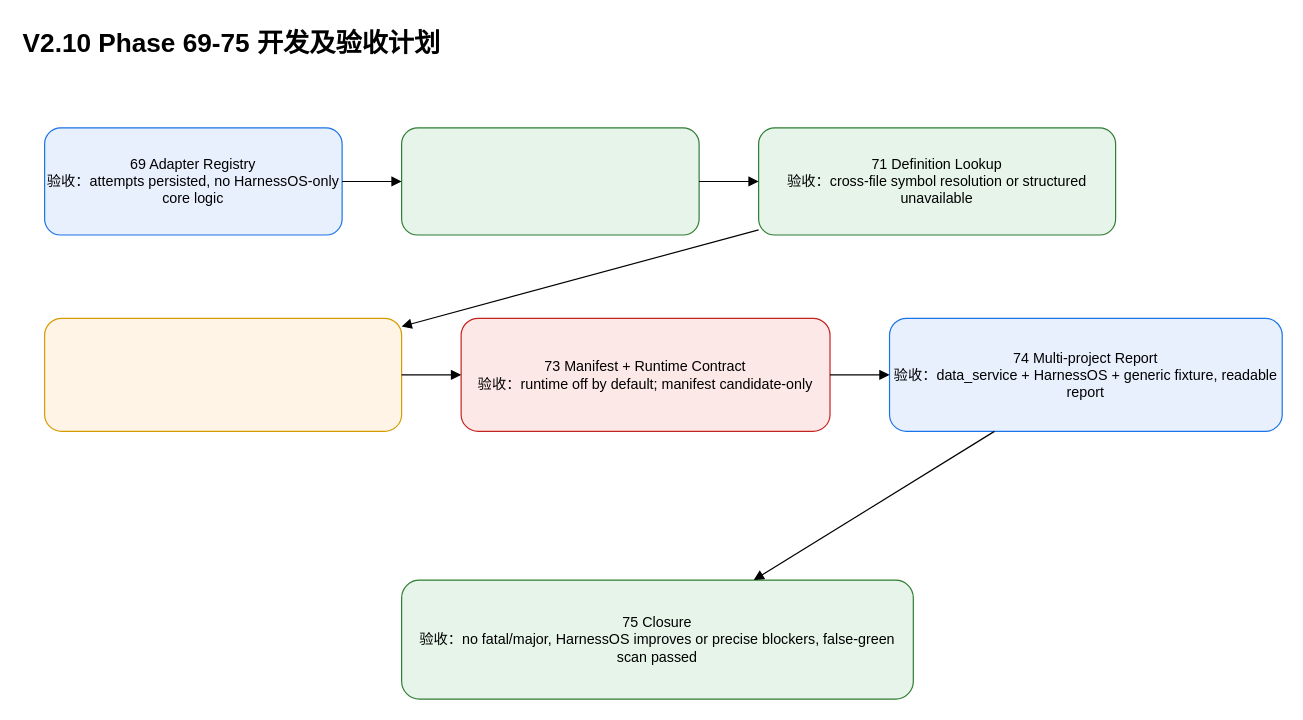
The diagram is 1303 pixels wide and 720 high, and some of its shapes have lost their labels. The centre of each missing label's shape, as x and y in pixels:
"70 AST Binding 验收：registry/decorator/class/factory line truth checks" goes at point (549, 181).
"72 Doc-Code Evidence v3 验收：document claim != code evidence; weak never accepted" goes at point (222, 374).
